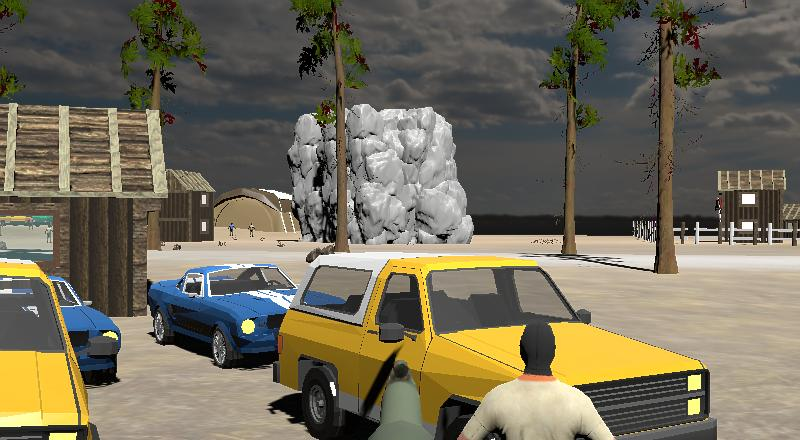House: (1, 101, 166, 317), (716, 168, 786, 240), (161, 167, 216, 242), (781, 202, 800, 243)
Human: (437, 323, 641, 440), (227, 221, 238, 239)
car: (275, 248, 717, 440), (0, 253, 103, 439), (145, 261, 303, 369), (34, 273, 124, 387)
